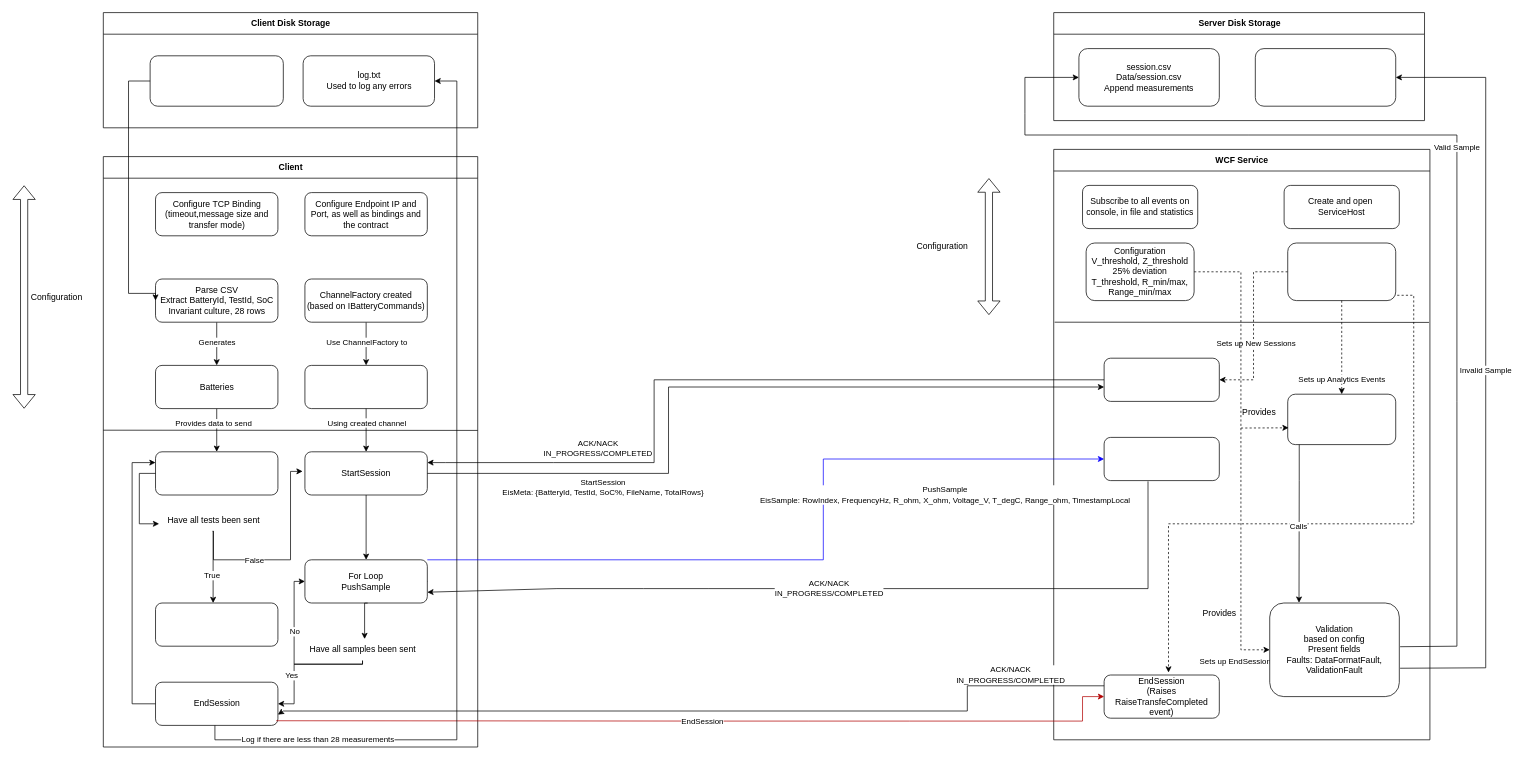
Some shapes in this 1524 by 760 pixel diagram are drawn without their labels. Here are the shapes that lost their labels. From the top down, the centre of each, then its label:
At point 216,80: "Measurement CSV Files (Bxx/EIS Measurement/Test_y/Hioki/*.csv)".
At point 1325,77: "rejects.csv Data/rejects.csv Rejected samples Format: time, reason".
At point 1341,271: "ServiceContract StartSession(EisMeta) PushSample(EisSample) EndSession()".
At point 365,387: "CreateChannel".
At point 1161,379: "StartSession(EisMeta) (Raises RaiseTransferStarted event)".
At point 1341,419: "Analytics based on config".
At point 216,473: "For Loop Pick one battery test".
At point 1161,459: "PushSample(EisSample)(Raises RaiseSampleReceived event)".
At point 216,624: "Close communication and factory".
